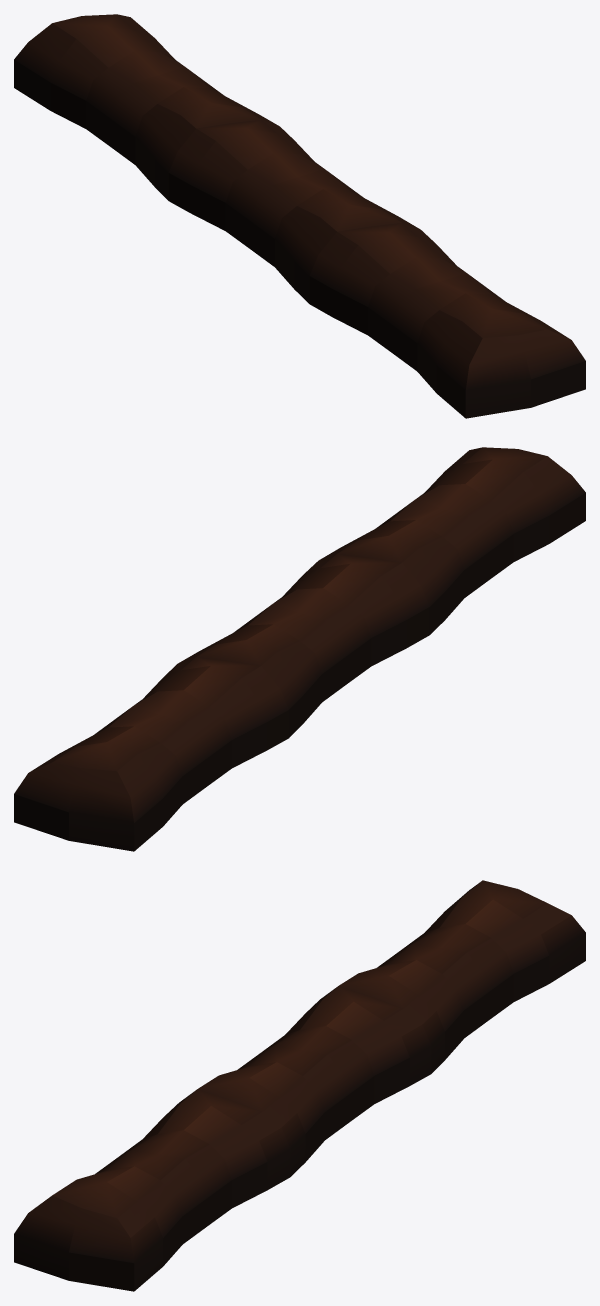
Rendered from LargeCrop_01.fbx.
3 views of the same model, one above another, from view 1: azimuth 30°, elevation 25°; view 2: azimuth 150°, elevation 25°; view 3: azimuth 330°, elevation 25° (orthographic).
Parts seen in each view (by area): view 1: Crop9x1; view 2: Crop9x1; view 3: Crop9x1.
Boxes of the visible parts, box(x1,y1,x2,y2) form: Crop9x1: box(14, 14, 585, 418); Crop9x1: box(14, 447, 585, 851); Crop9x1: box(14, 880, 585, 1291).
Size of the model in its own units: 196 by 110 by 1303.
